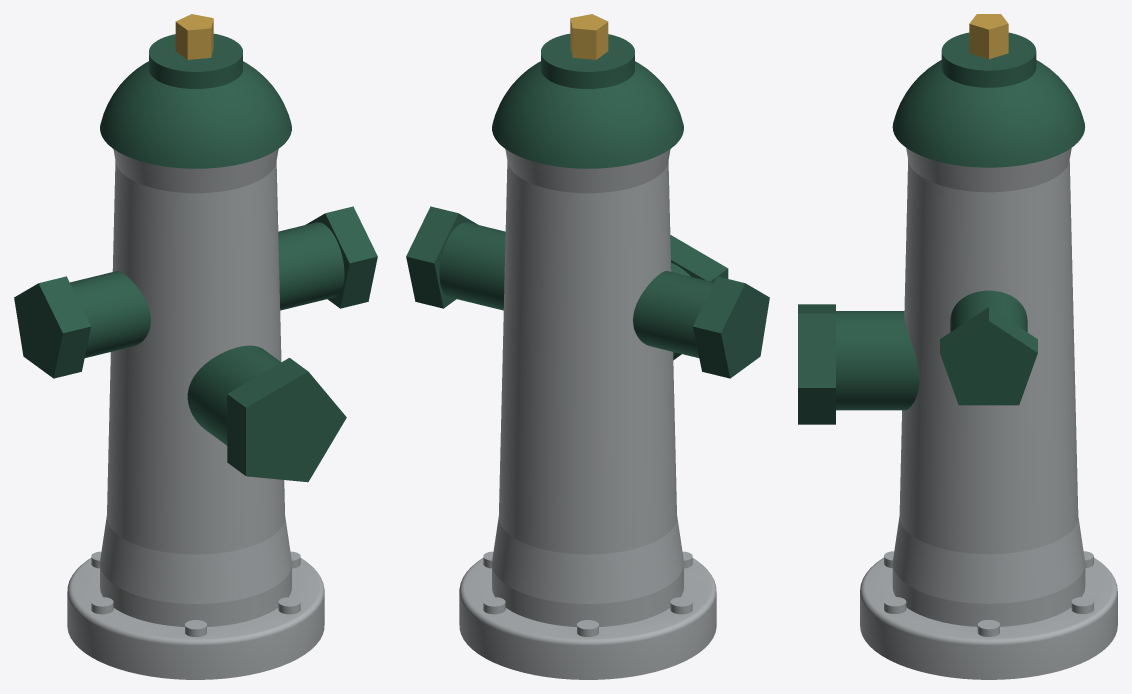
File: hydrant.glb
The picture shows the model from 3 angles, left to right: view 1: azimuth 30°, elevation 25°; view 2: azimuth 150°, elevation 25°; view 3: azimuth 270°, elevation 25°; orthographic projection.
Parts seen in each view (by area): view 1: barrel, bonnet_dome, base_flange, steamer_stub, nozzle_stub, nozzle_stub.001, operating_nut; view 2: barrel, bonnet_dome, base_flange, nozzle_stub, nozzle_stub.001, operating_nut, steamer_stub; view 3: barrel, bonnet_dome, base_flange, steamer_stub, nozzle_stub.001, operating_nut.
Boxes of the visible parts, x1,y1,x2,y2 form: barrel: (100, 149, 291, 626); bonnet_dome: (100, 33, 291, 168); base_flange: (67, 551, 324, 679); steamer_stub: (187, 345, 346, 482); nozzle_stub: (14, 271, 150, 378); nozzle_stub.001: (278, 206, 377, 310); operating_nut: (175, 14, 213, 59); barrel: (492, 149, 683, 626); bonnet_dome: (492, 33, 683, 168); base_flange: (459, 551, 716, 679); nozzle_stub: (633, 271, 769, 378); nozzle_stub.001: (406, 206, 505, 310); operating_nut: (570, 14, 608, 59); steamer_stub: (670, 235, 728, 360); barrel: (892, 148, 1085, 626); bonnet_dome: (892, 32, 1084, 167); base_flange: (860, 551, 1117, 679); steamer_stub: (798, 304, 919, 424); nozzle_stub.001: (940, 290, 1037, 405); operating_nut: (969, 14, 1008, 59).
Size of the model in its own units: 0.424 by 0.776 by 0.372.
